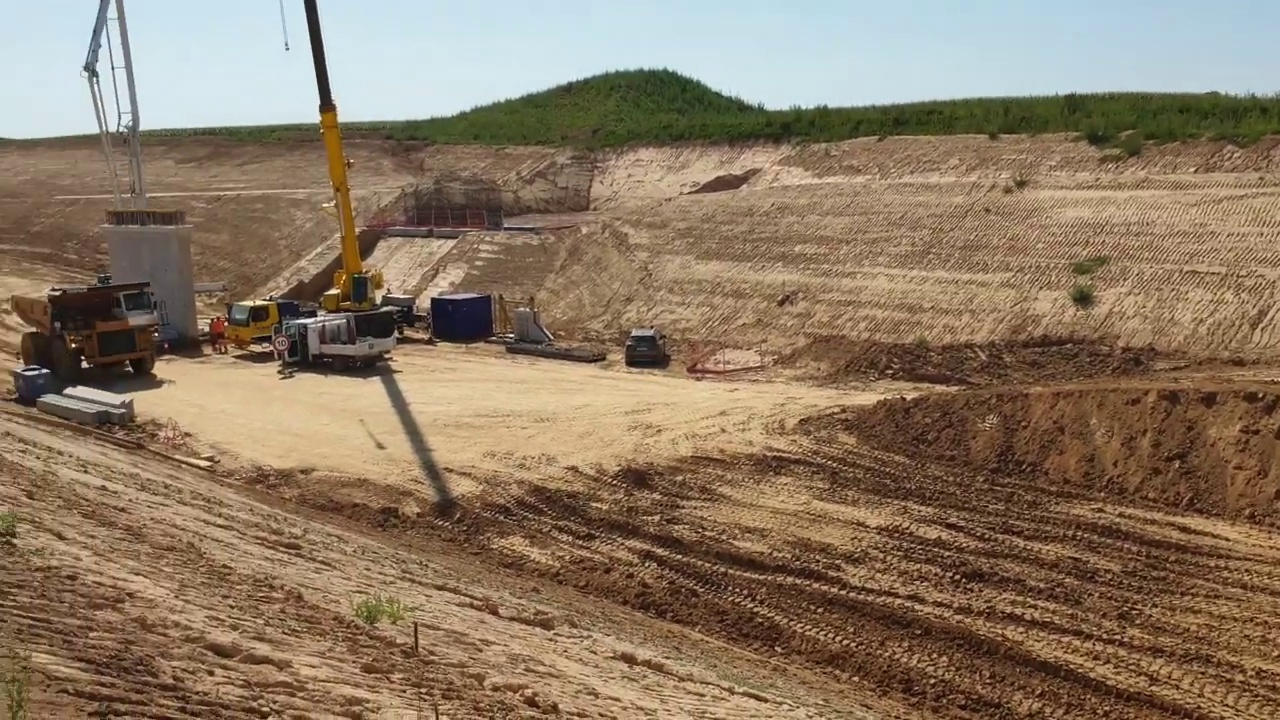crane: (229, 1, 421, 382)
truck: (8, 272, 166, 390)
worker: (206, 312, 233, 358)
